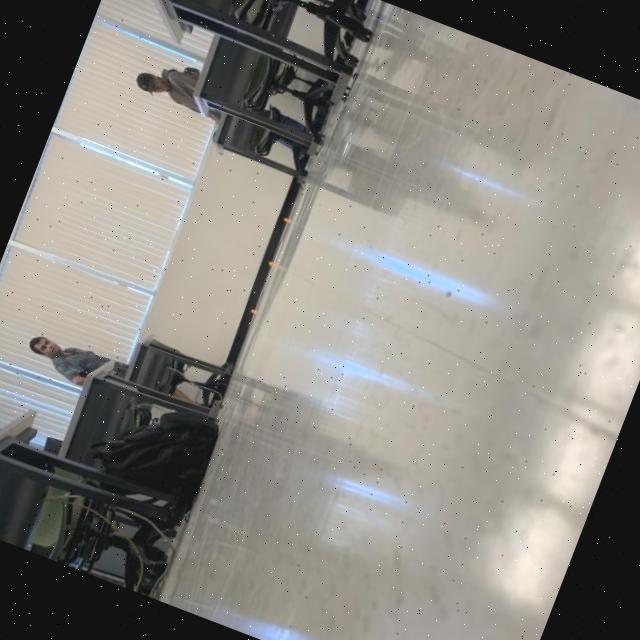ping-pong-ball: (248, 308, 256, 314), (267, 261, 274, 267), (282, 217, 288, 223)
